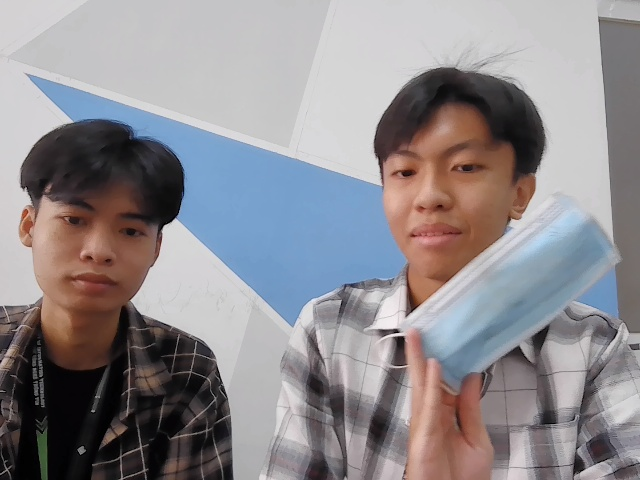human: (21, 113, 192, 311), (366, 56, 529, 259)
mask: (401, 188, 622, 368)
